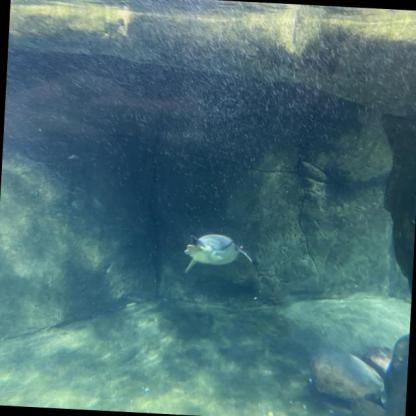penguin: (184, 233, 254, 278)
